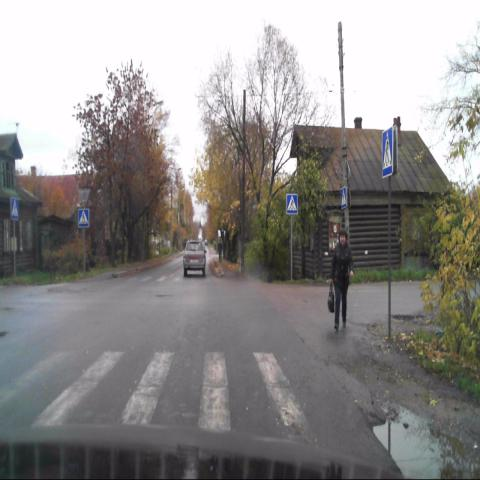5_19_1: (380, 126, 393, 177), (77, 208, 90, 226), (287, 193, 298, 214), (10, 197, 20, 218), (340, 187, 346, 208)
